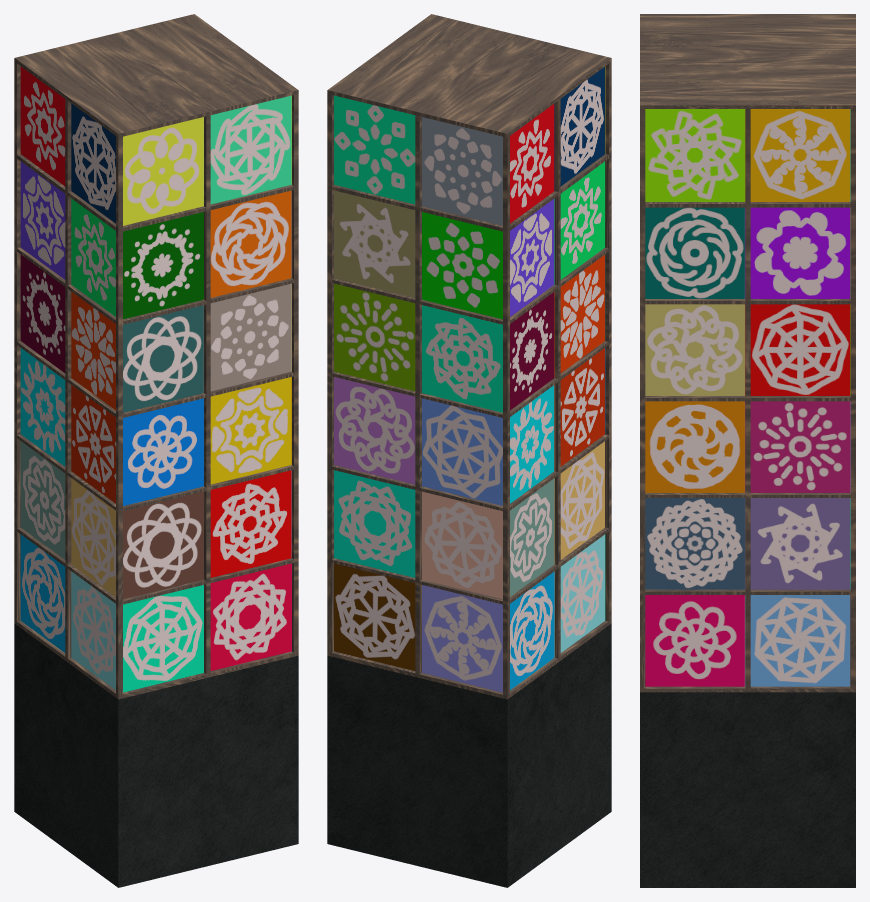
File: PaperLantern-6steps.fbx
3 views of the same model, side by side, from view 1: azimuth 30°, elevation 25°; view 2: azimuth 150°, elevation 25°; view 3: azimuth 270°, elevation 25° (orthographic). The views are drawn at different scales.
Visible parts, largest first — view 1: BoxLight-6steps; view 2: BoxLight-6steps; view 3: BoxLight-6steps.
Part boxes in pixels (left/top/right/bottom): BoxLight-6steps: left=14, top=14, right=298, bottom=887; BoxLight-6steps: left=327, top=14, right=611, bottom=887; BoxLight-6steps: left=640, top=14, right=855, bottom=887.
Size of the model in its own units: 30 by 30 by 120.
